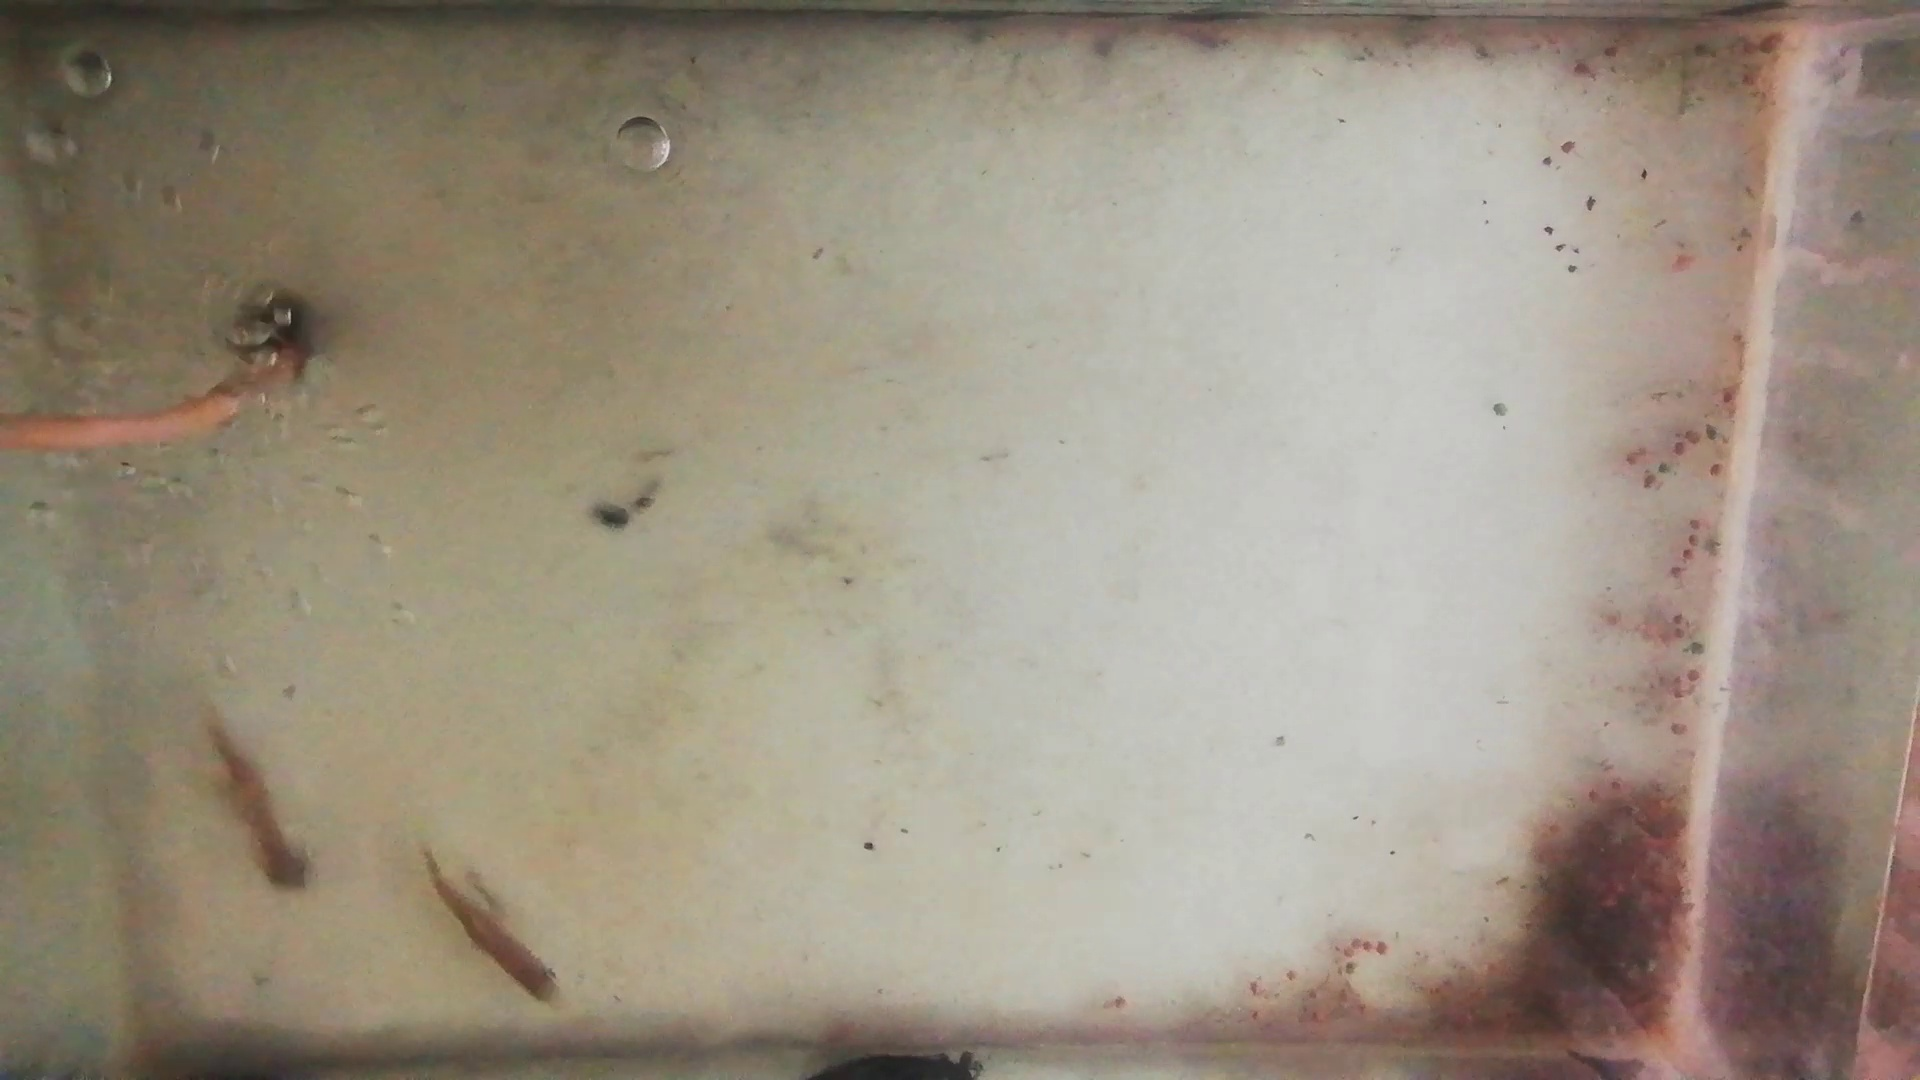fish: (426, 852, 568, 1011), (204, 707, 307, 891)
